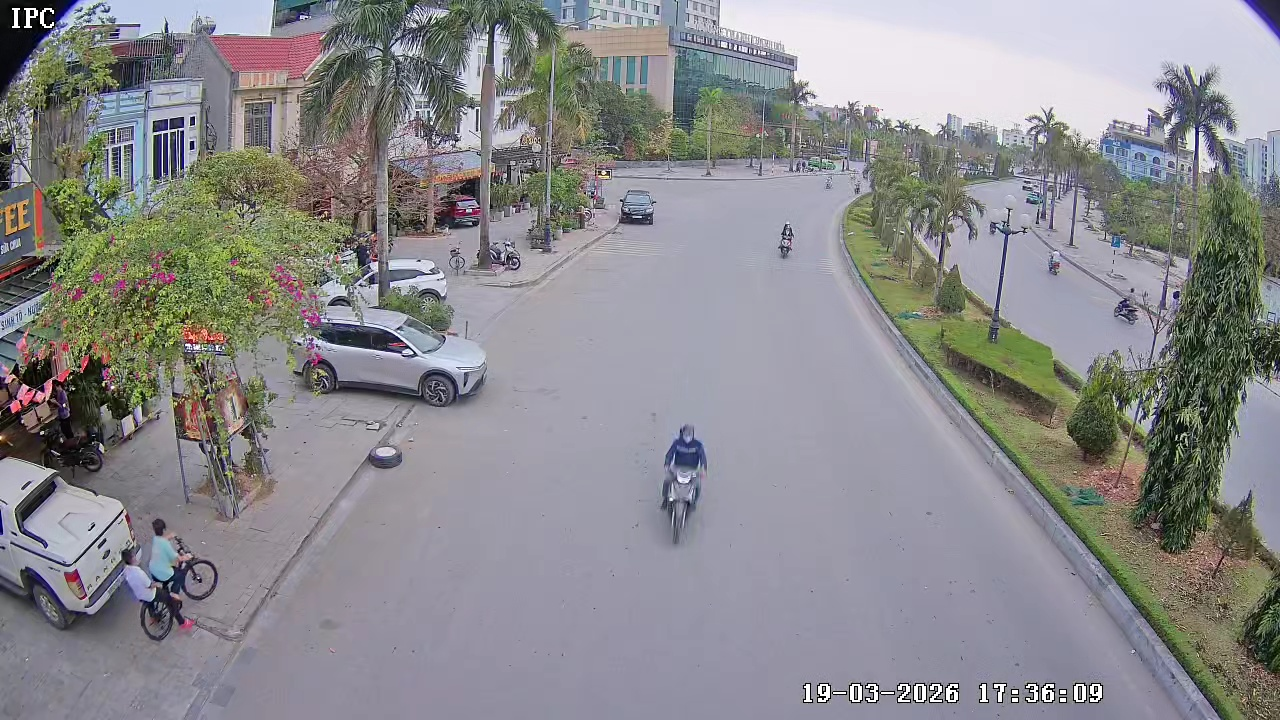car: (296, 313, 488, 407), (617, 186, 658, 225)
motorbike: (143, 516, 222, 611), (656, 422, 711, 545), (777, 219, 797, 259)
